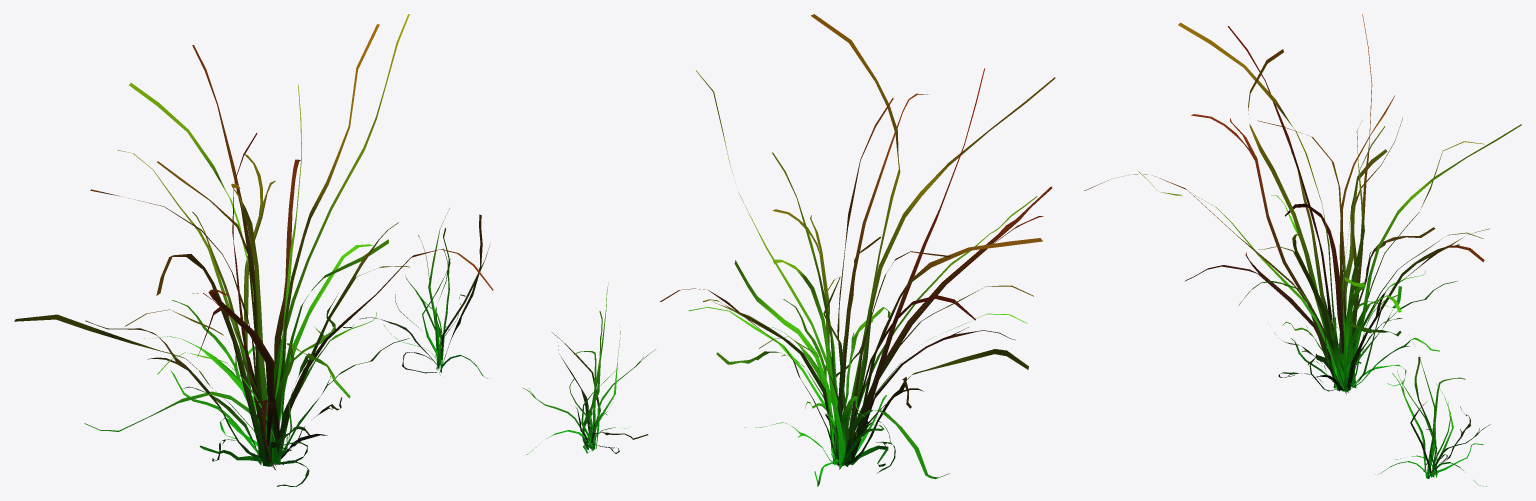
The model's file is SM_OW_GrassTuft_a_LOD0.fbx.
The picture shows the model from 3 angles, left to right: view 1: azimuth 30°, elevation 25°; view 2: azimuth 150°, elevation 25°; view 3: azimuth 270°, elevation 25°; orthographic projection. The views are drawn at different scales.
Parts seen in each view (by area): view 1: SM_OW_GrassTuft_a_LOD0; view 2: SM_OW_GrassTuft_a_LOD0; view 3: SM_OW_GrassTuft_a_LOD0.
Boxes of the visible parts, left/top/right/bottom form: SM_OW_GrassTuft_a_LOD0: left=14, top=14, right=493, bottom=486; SM_OW_GrassTuft_a_LOD0: left=523, top=14, right=1055, bottom=486; SM_OW_GrassTuft_a_LOD0: left=1084, top=14, right=1521, bottom=486.
Size of the model in its own units: 0.4675 by 0.4034 by 0.4332.
